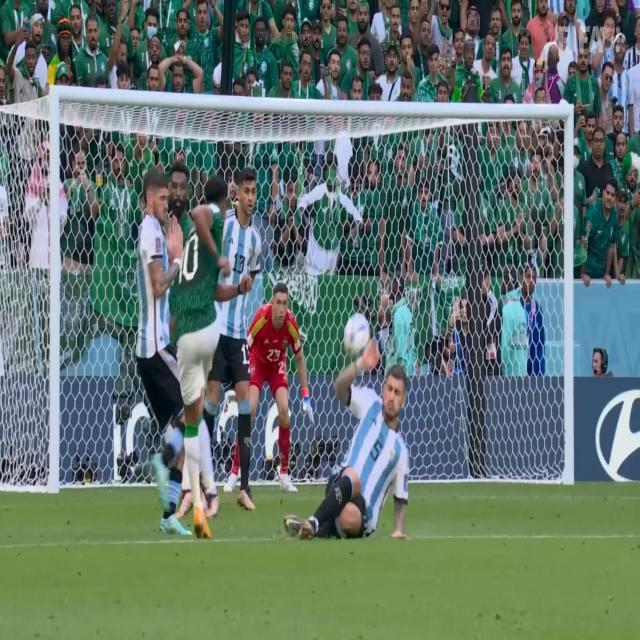football: (343, 298, 383, 361)
